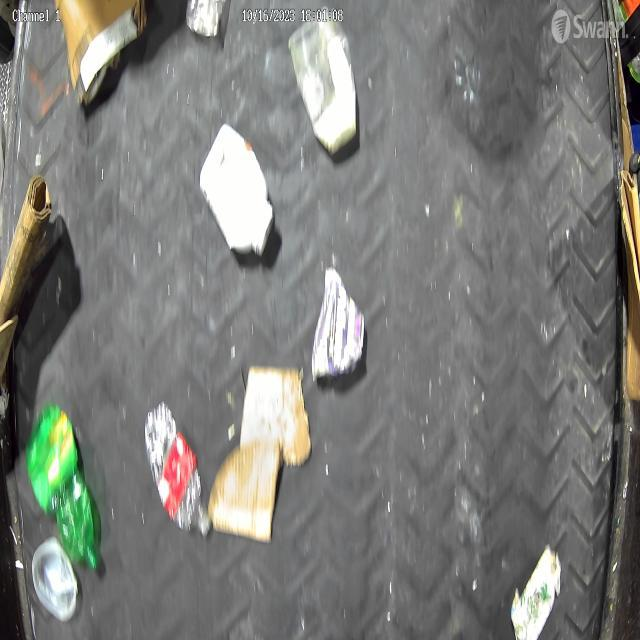plastic_bottle: (144, 402, 213, 538)
